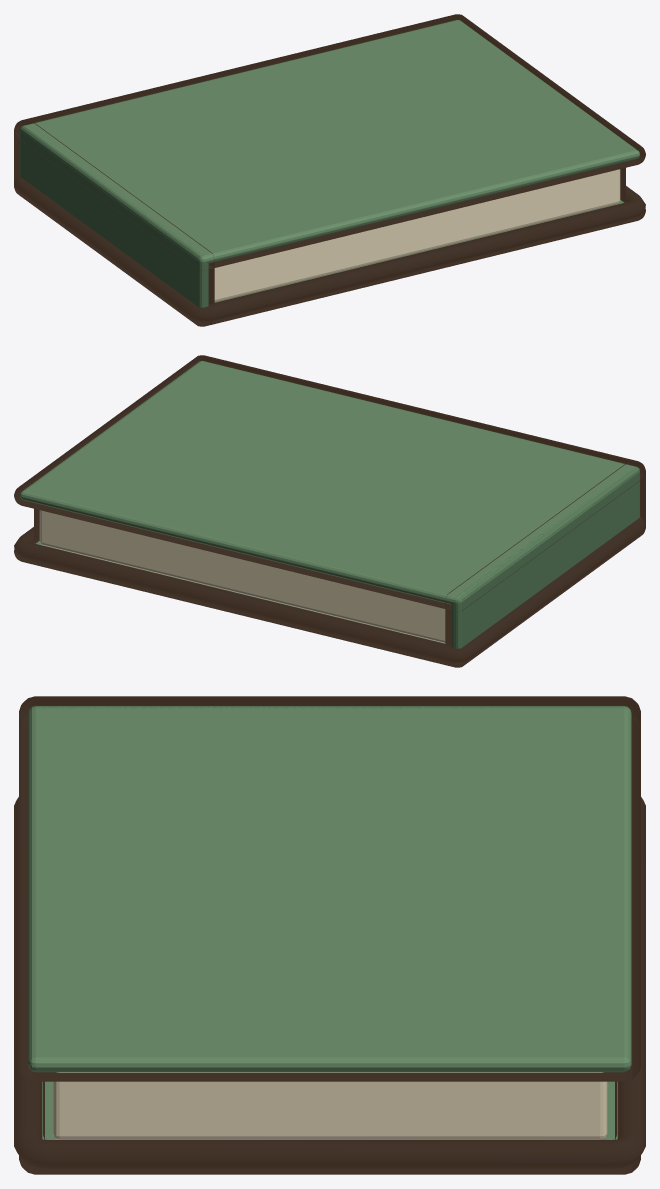
File: livro.glb
3 views of the same model, one above another, from view 1: azimuth 30°, elevation 25°; view 2: azimuth 150°, elevation 25°; view 3: azimuth 270°, elevation 25° (orthographic). The views are drawn at different scales.
Parts seen in each view (by area): view 1: livro, livro_outline; view 2: livro, livro_outline; view 3: livro, livro_outline.
Boxes of the visible parts, x1=… form: livro: x1=20, y1=20, x2=639, y2=307; livro_outline: x1=14, y1=14, x2=645, y2=326; livro: x1=20, y1=361, x2=639, y2=648; livro_outline: x1=14, y1=355, x2=645, y2=667; livro: x1=28, y1=706, x2=631, y2=1139; livro_outline: x1=14, y1=696, x2=645, y2=1174.
Size of the model in its own units: 0.362 by 0.0569 by 0.262.
